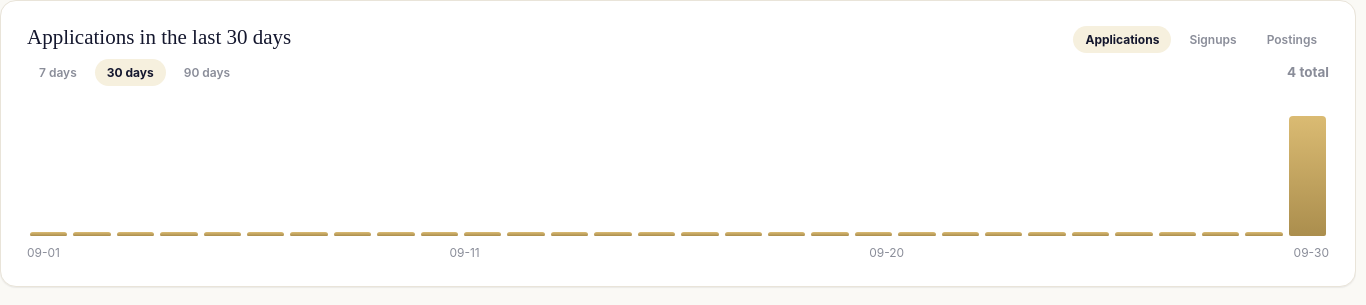
Test case: Overview — Activity trend (ActivityTrend) › refetches from /admin/analytics/trend when the series is changed, and relabels the unit
The image size is (1366, 305).
Expected: the heading "Applications in the last 30 days" is shown, [27, 25, 291, 50]
What coordinates should you click on to do the following:
click the button "Signups"
I would click on:
 (1213, 40)
Its box is [1177, 26, 1249, 53].
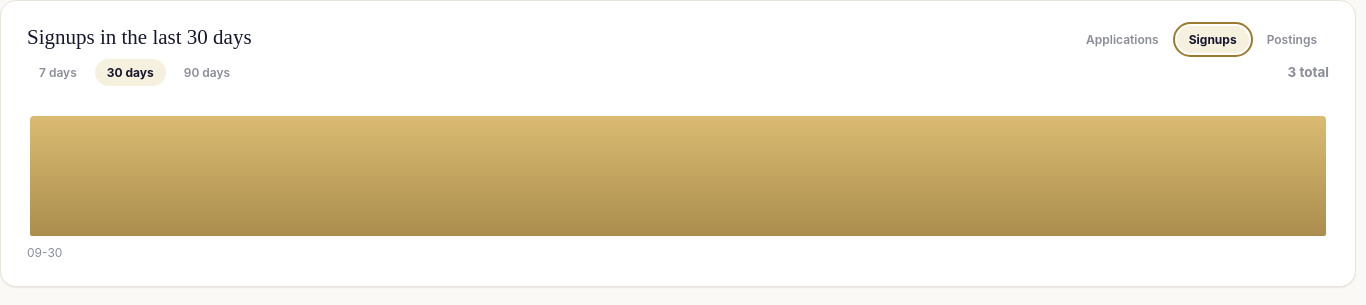
Expected: the heading "Signups in the last 30 days" is shown, [27, 25, 252, 50]
